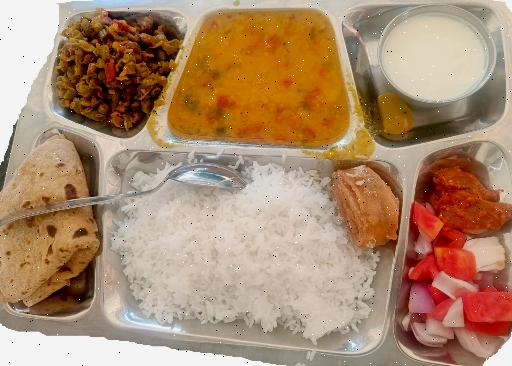Curd: (374, 6, 506, 108)
Dal: (172, 13, 358, 143)
Pickle: (425, 161, 512, 233)
Rice: (120, 162, 368, 322)
Roti: (0, 138, 100, 312)
Salad: (408, 244, 506, 352)
Sweet: (328, 162, 398, 250)
Vegetable: (52, 9, 170, 126)
